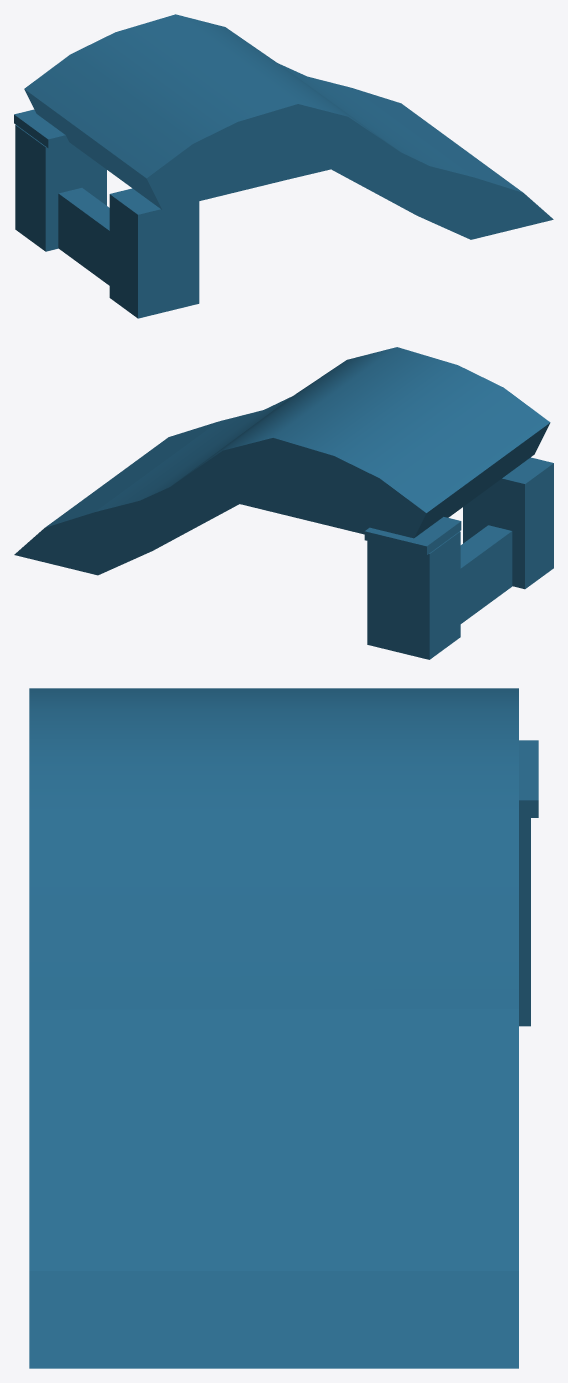
Rendered from SM_Bld_Facade_Background_02_Collision.fbx.
The picture shows the model from 3 angles, top to bottom: view 1: azimuth 30°, elevation 25°; view 2: azimuth 150°, elevation 25°; view 3: azimuth 270°, elevation 25°; orthographic projection. The views are drawn at different scales.
Visible parts, largest first — view 1: SM_Bld_Facade_Background_02_Collision; view 2: SM_Bld_Facade_Background_02_Collision; view 3: SM_Bld_Facade_Background_02_Collision.
Boxes of the visible parts, x1,y1,x2,y2 form: SM_Bld_Facade_Background_02_Collision: (14, 14, 553, 318); SM_Bld_Facade_Background_02_Collision: (14, 347, 553, 659); SM_Bld_Facade_Background_02_Collision: (29, 688, 538, 1368).
Size of the model in its own units: 1635 by 676 by 872.
